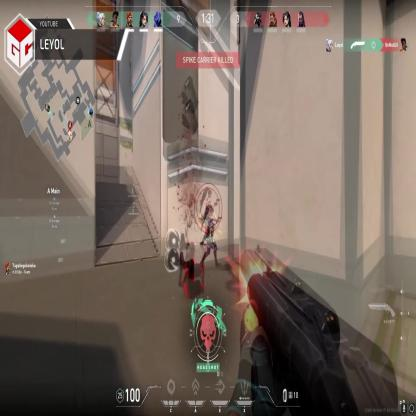enemy: (201, 209, 221, 266)
enemy_head: (208, 209, 214, 216)
